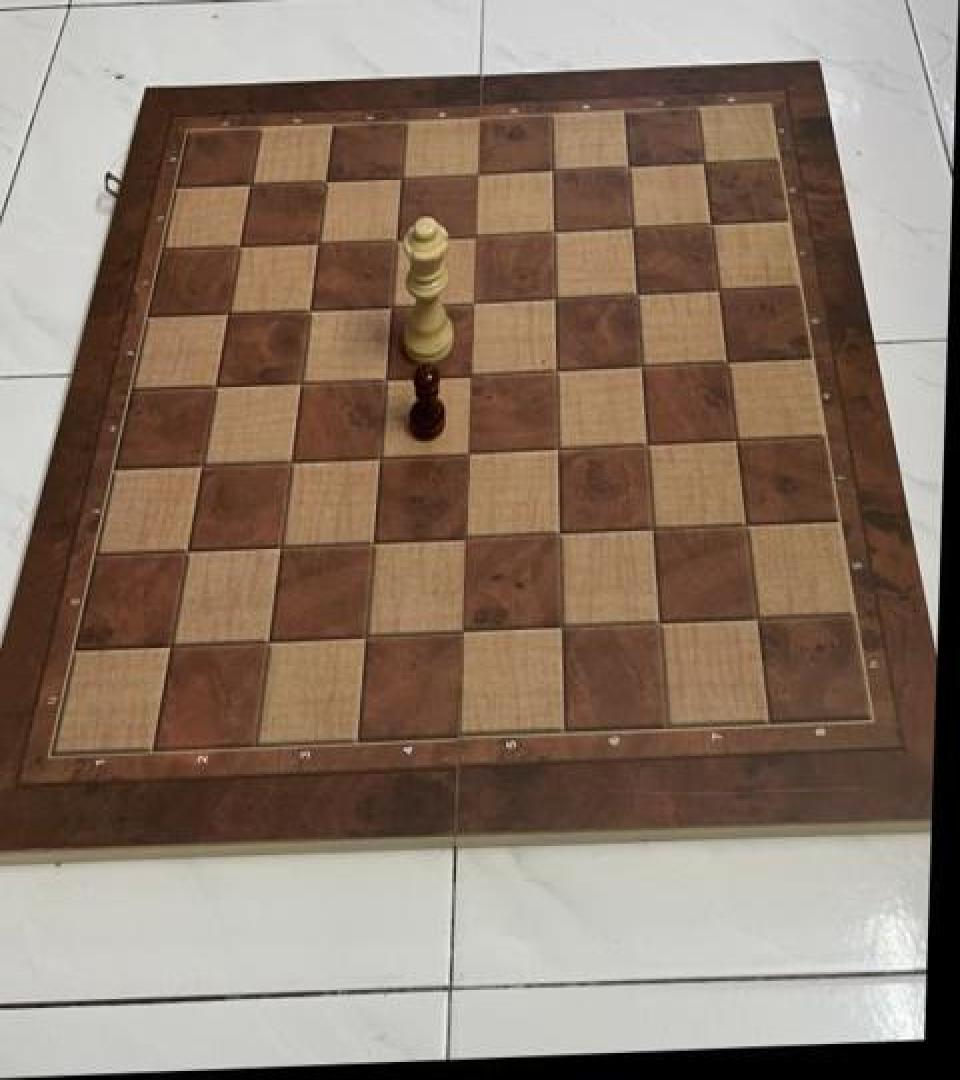xcorner: (383, 155, 417, 194), (692, 202, 726, 241), (619, 273, 653, 312), (454, 353, 488, 392), (364, 436, 398, 475), (157, 625, 191, 664), (685, 141, 719, 179), (610, 145, 644, 183), (534, 148, 568, 186), (459, 152, 493, 190), (308, 159, 342, 197), (233, 162, 267, 200), (614, 207, 648, 245), (536, 210, 570, 248), (457, 214, 491, 252), (379, 217, 413, 255), (301, 220, 335, 258), (223, 225, 257, 263), (700, 269, 734, 307), (537, 277, 571, 315), (456, 280, 490, 318), (374, 285, 408, 323), (293, 288, 327, 326), (212, 292, 246, 330), (708, 342, 742, 380), (624, 346, 658, 384), (539, 350, 573, 388), (369, 357, 403, 395), (284, 361, 318, 399), (200, 364, 234, 402), (718, 420, 752, 458), (629, 424, 663, 462), (541, 428, 575, 466), (452, 432, 486, 470), (275, 440, 309, 478), (187, 444, 221, 482), (728, 505, 762, 543), (635, 510, 669, 548), (543, 514, 577, 552), (450, 519, 484, 557), (358, 522, 392, 560), (265, 526, 299, 564), (173, 531, 207, 569), (739, 598, 773, 636), (642, 603, 676, 641), (545, 608, 579, 646), (448, 612, 482, 650), (351, 616, 385, 654), (254, 621, 288, 659)
